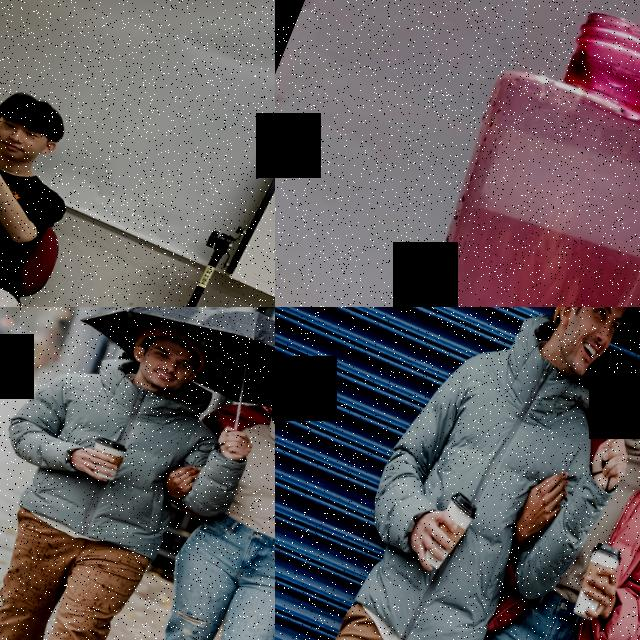bottle: (320, 0, 640, 307)
cup: (421, 488, 482, 574), (566, 540, 626, 624), (81, 434, 131, 484)
